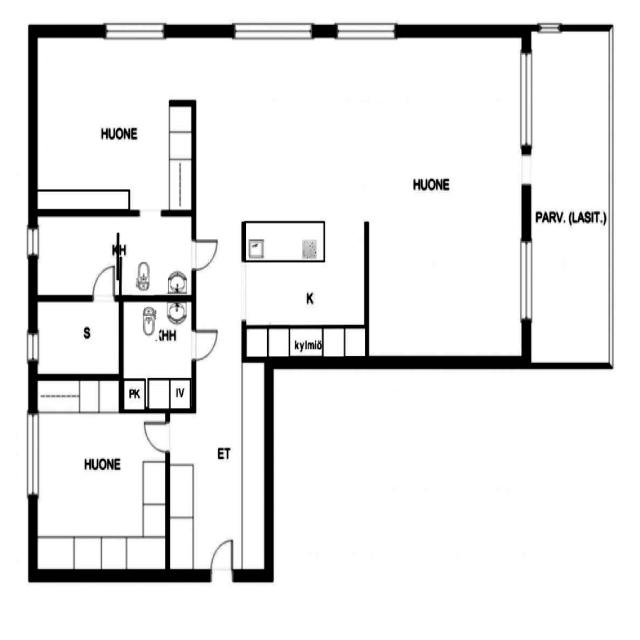door: (188, 324, 221, 363), (208, 534, 237, 578), (187, 235, 221, 272), (141, 416, 173, 455), (90, 261, 118, 303)
window: (514, 46, 538, 184), (228, 14, 318, 46), (330, 15, 402, 44), (100, 16, 170, 44), (22, 408, 42, 502), (517, 235, 536, 324), (236, 256, 252, 326), (25, 328, 40, 366), (26, 222, 41, 260)
zone: (192, 28, 531, 362), (34, 33, 191, 212), (30, 378, 166, 576), (241, 253, 369, 361), (120, 296, 194, 408), (35, 214, 119, 298), (33, 297, 122, 376), (118, 211, 195, 297)
